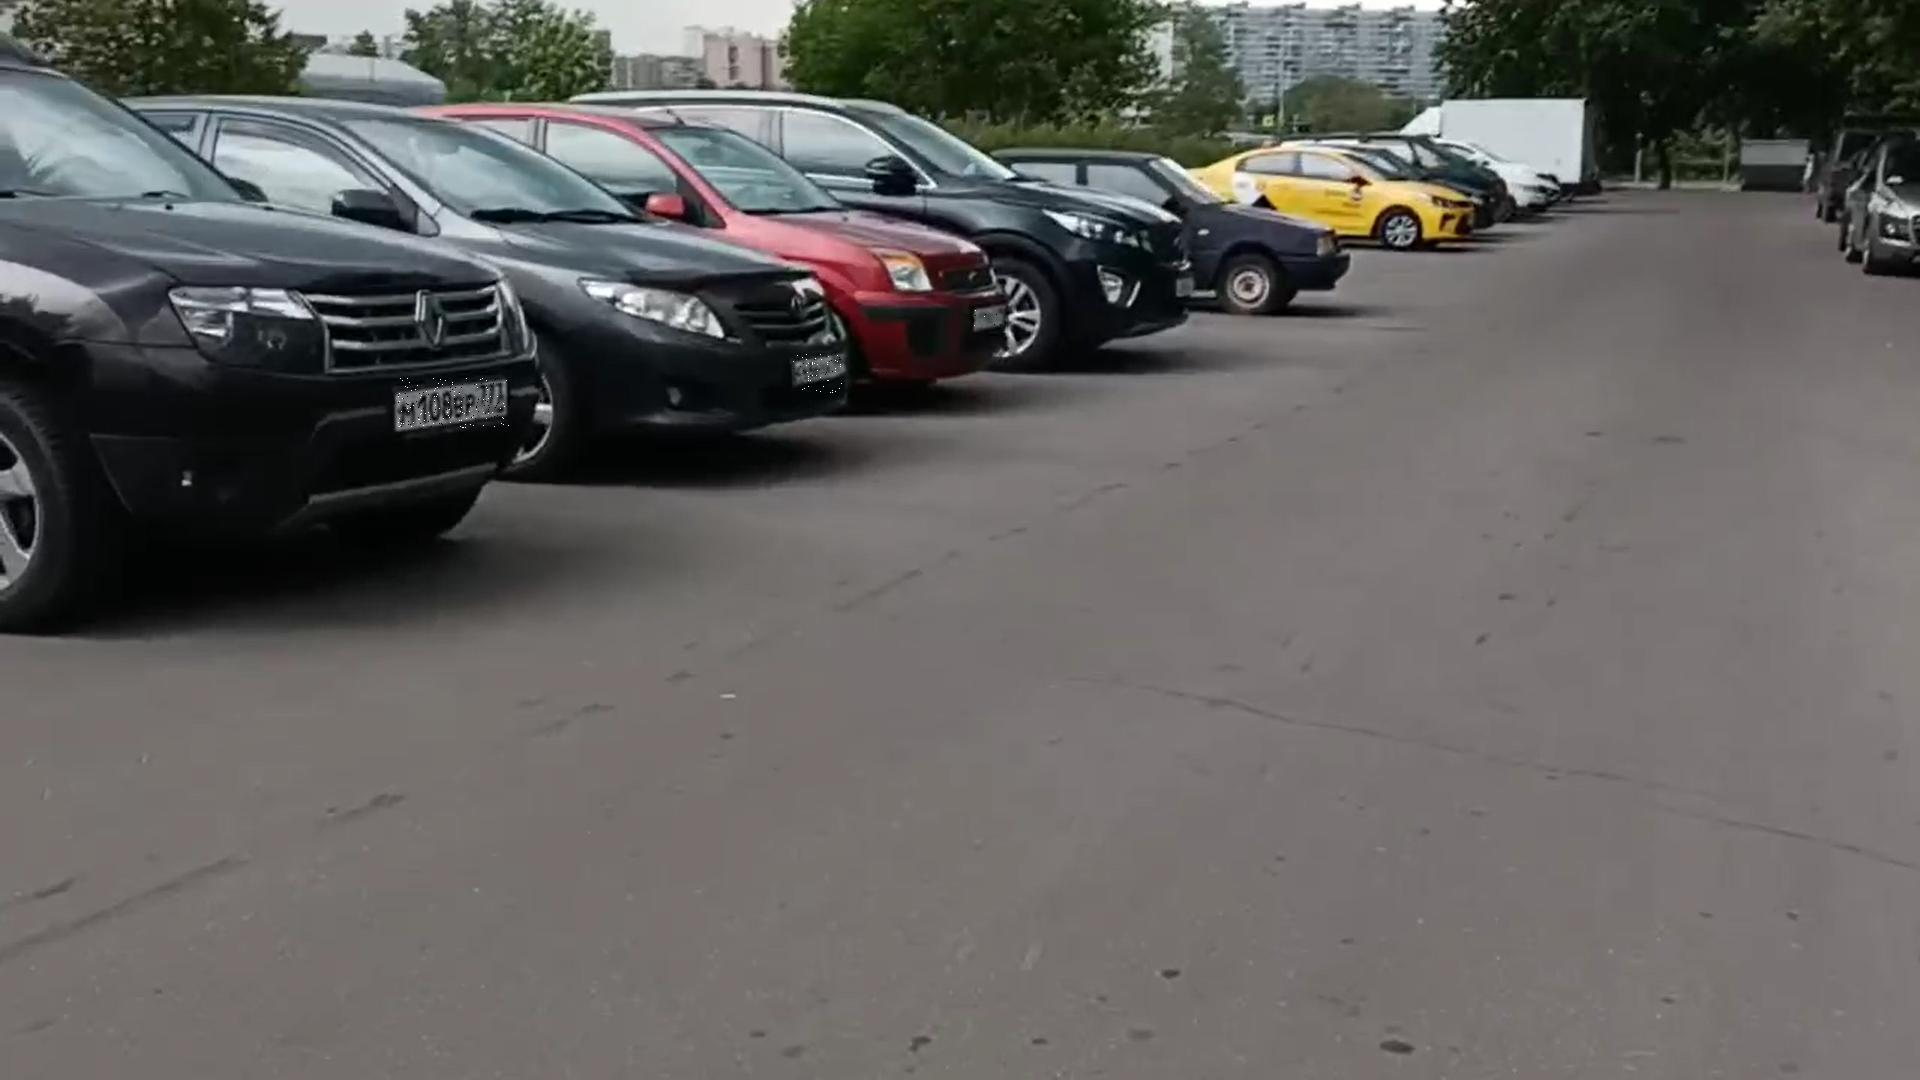plate: (399, 379, 510, 429), (794, 355, 844, 394), (976, 309, 1009, 334)
